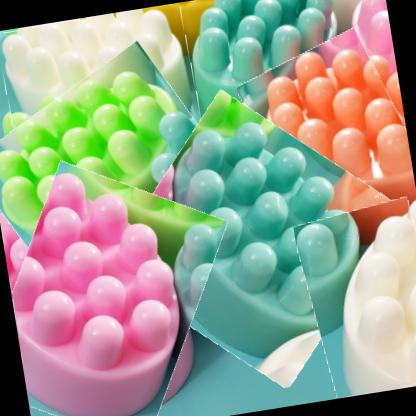soap: (103, 89, 404, 388), (0, 151, 235, 415), (0, 50, 228, 278), (243, 28, 415, 275), (0, 1, 203, 156), (294, 197, 415, 401)
